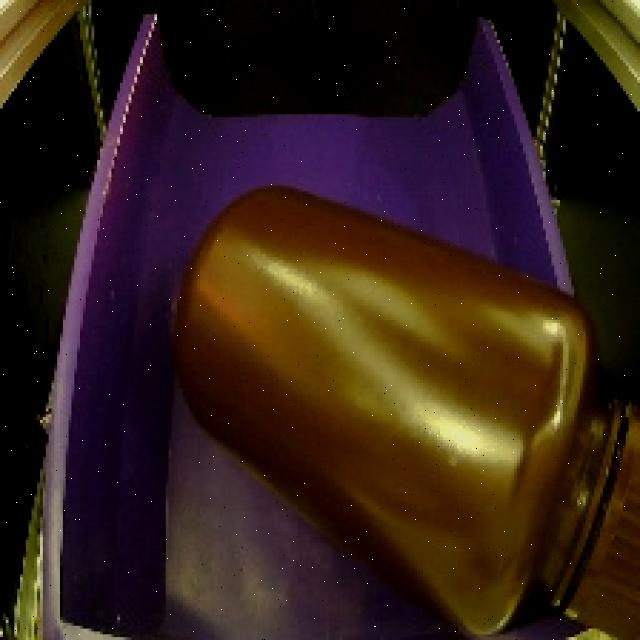plastic: (146, 165, 640, 640)
